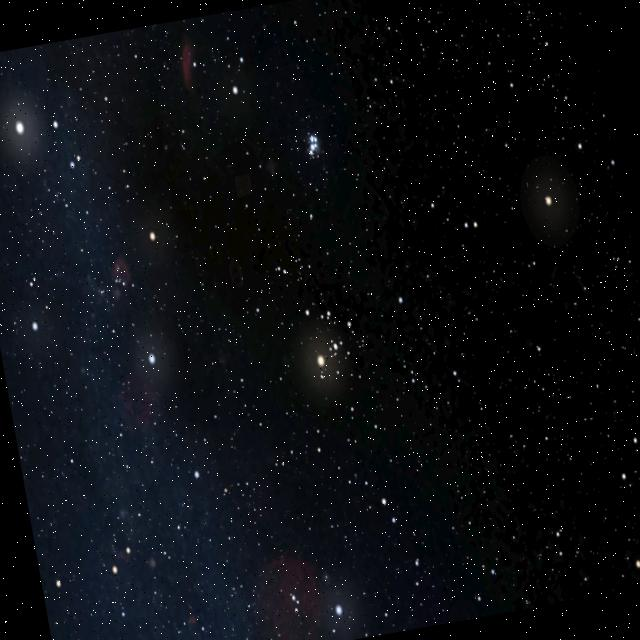Taurus: (96, 104, 527, 525)
